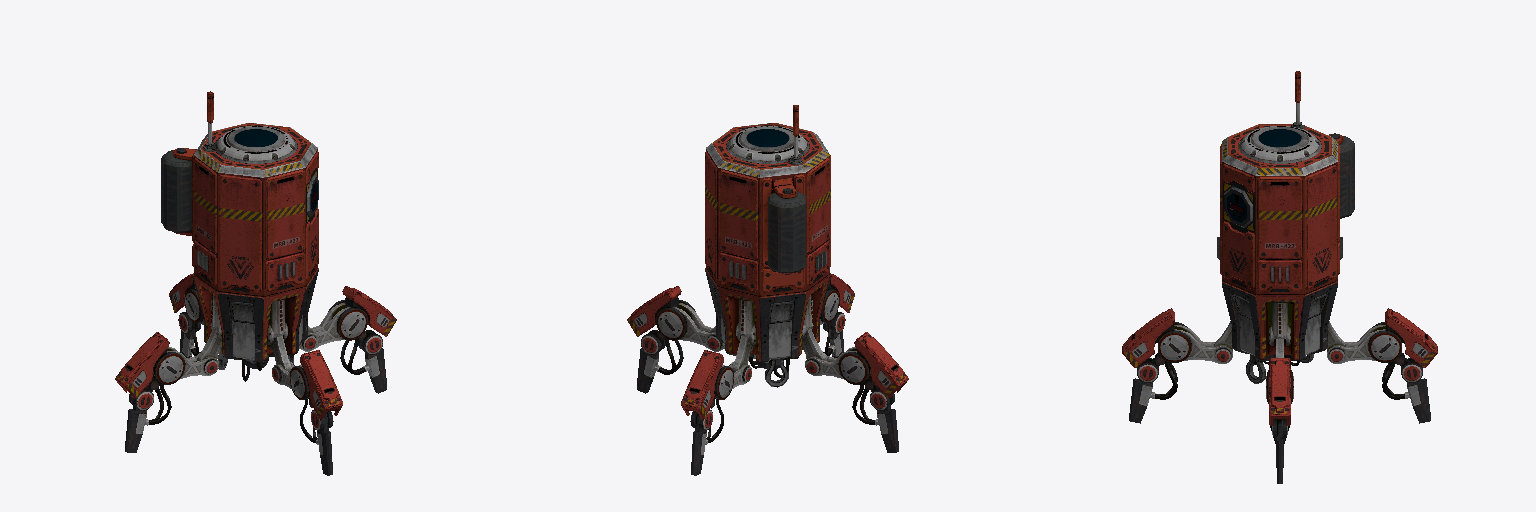
The picture shows the model from 3 angles: view 1: azimuth 30°, elevation 25°; view 2: azimuth 150°, elevation 25°; view 3: azimuth 270°, elevation 25°; orthographic projection.
Parts seen in each view (by area): view 1: mobile_respawn_beacon; view 2: mobile_respawn_beacon; view 3: mobile_respawn_beacon.
Boxes of the visible parts, x1,y1,x2,y2 form: mobile_respawn_beacon: [115, 91, 396, 475]; mobile_respawn_beacon: [627, 105, 908, 475]; mobile_respawn_beacon: [1122, 71, 1437, 483].
Bounding box in the file's own units: 18.47 × 21.52 × 18.47.
Materials: 1 (1 with a texture image).